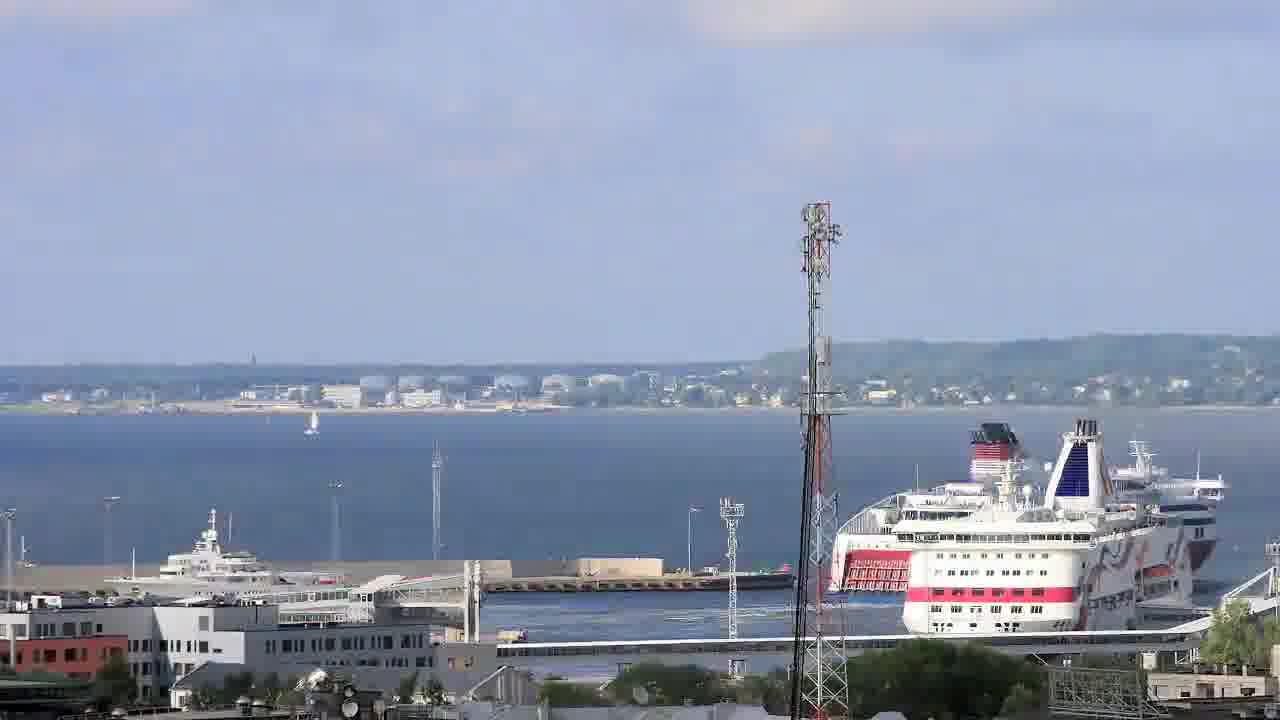type-2: (296, 390, 349, 450)
type-3: (868, 415, 1225, 638), (825, 439, 1243, 603), (89, 518, 402, 620)
